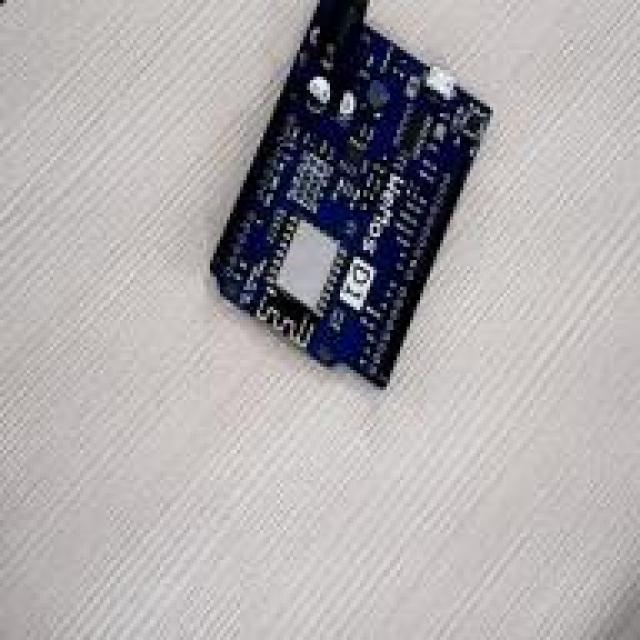Wemos: (211, 1, 488, 384)
